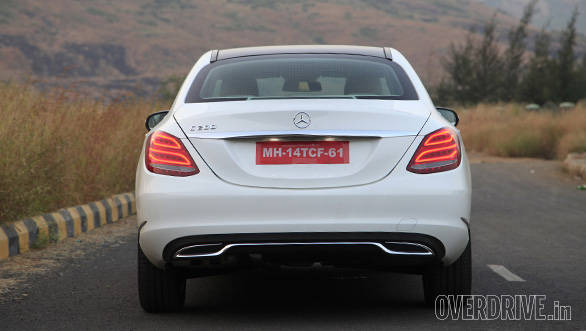number_plate: (254, 139, 351, 166)
